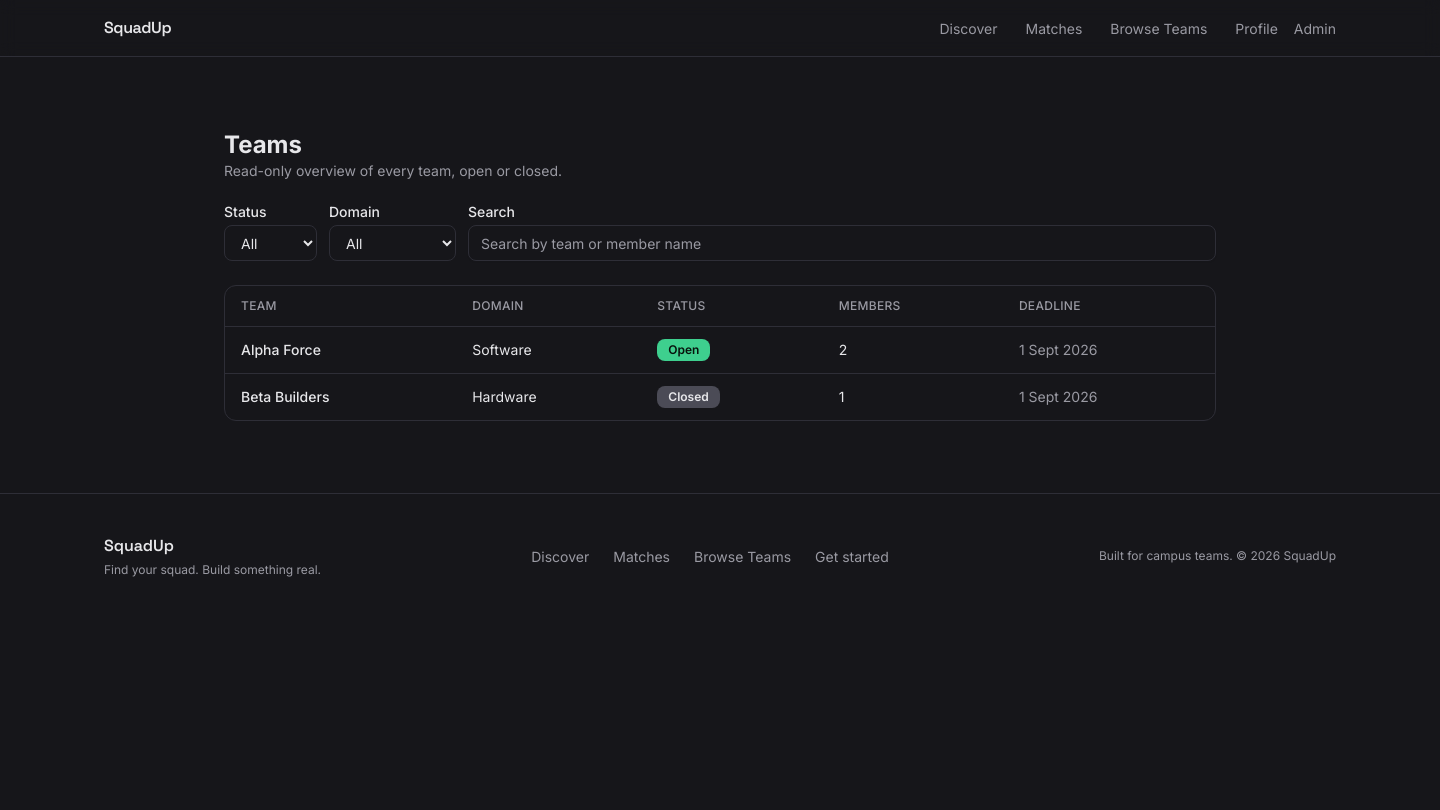
Scenario: admin teams — /admin/teams › filters by status
The width and height of the screenshot is (1440, 810).
Expected: the text "Alpha Force" is shown, [225,326,456,374]
# Simulate choosing "Closed" (react-testing-library + native select).
Select "Closed" in the dropdown labelled "Status": (270, 243) [224,225,317,261]
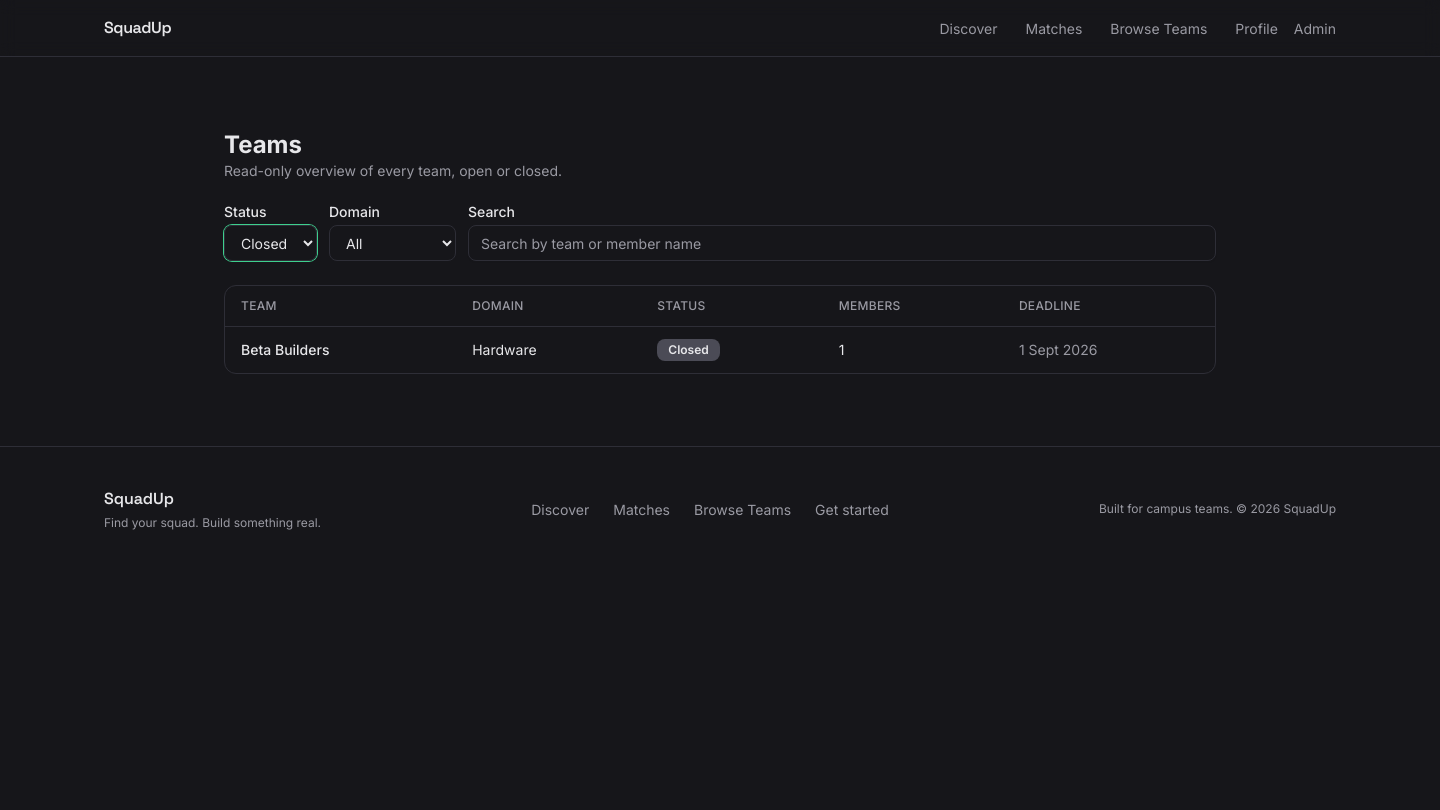
Expected: the text "Beta Builders" is shown, [225,326,456,373]
Now the text "Alpha Force" is gone
